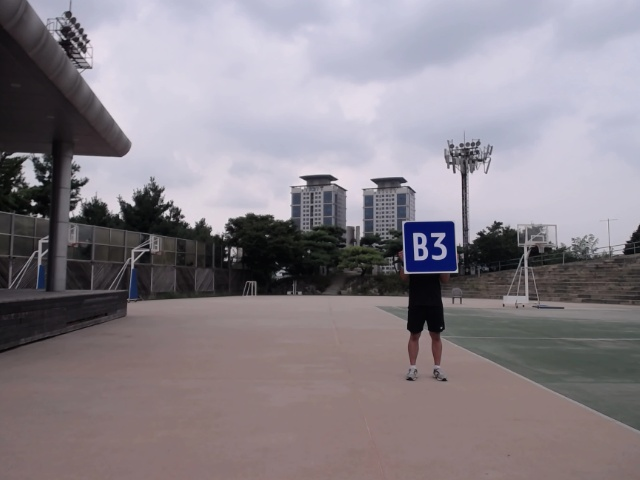delivery_b3: (401, 218, 459, 274)
